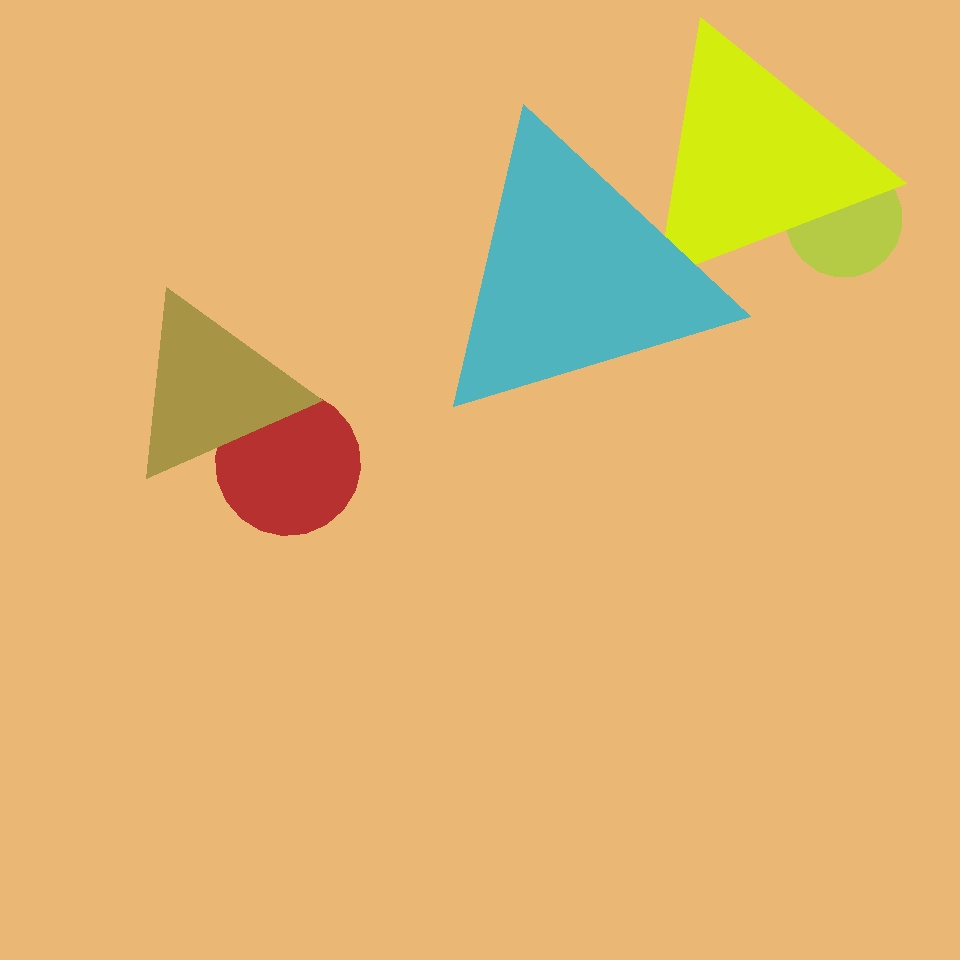circle: (428, 125, 724, 427), (631, 30, 879, 290), (239, 280, 498, 507), (124, 294, 300, 484), (521, 317, 696, 478)
square: (279, 414, 454, 588), (418, 252, 546, 381)
triangle: (615, 24, 894, 302), (216, 390, 360, 536), (347, 654, 483, 790), (786, 162, 902, 276)
